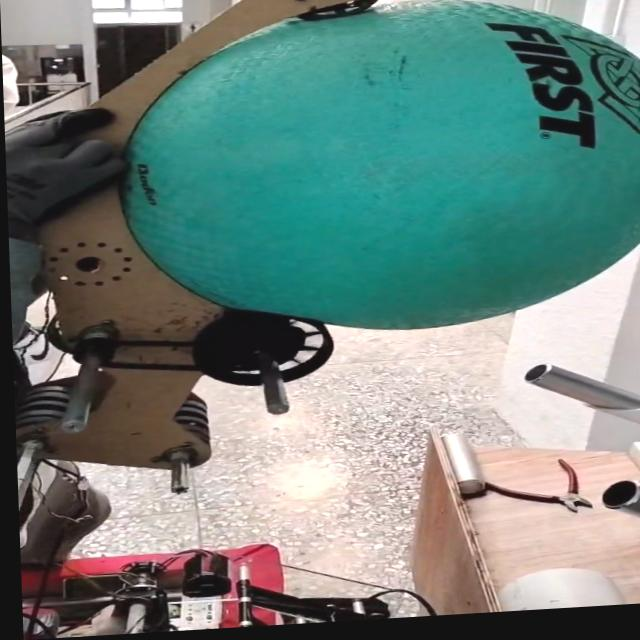ALGAE: (99, 0, 640, 346)
